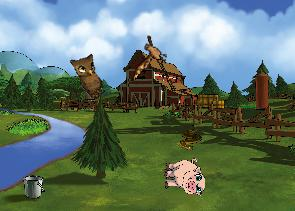eagle: (130, 34, 168, 82)
owl: (65, 47, 116, 101)
pig: (163, 158, 205, 196)
